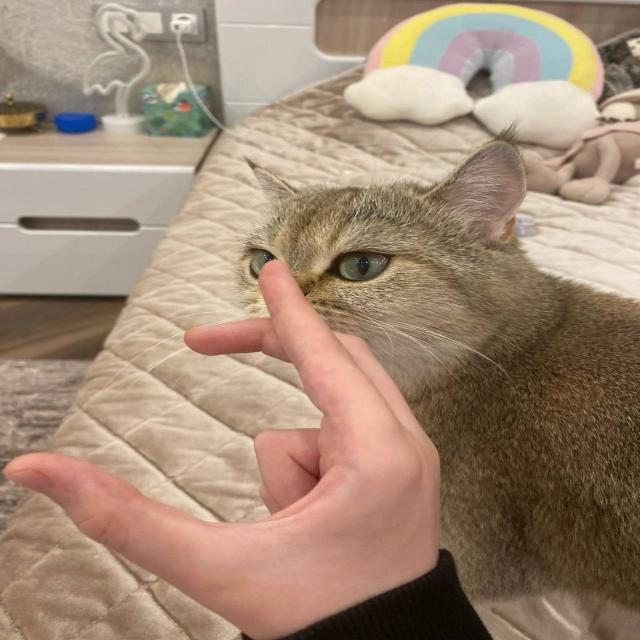b: (36, 262, 453, 598)
